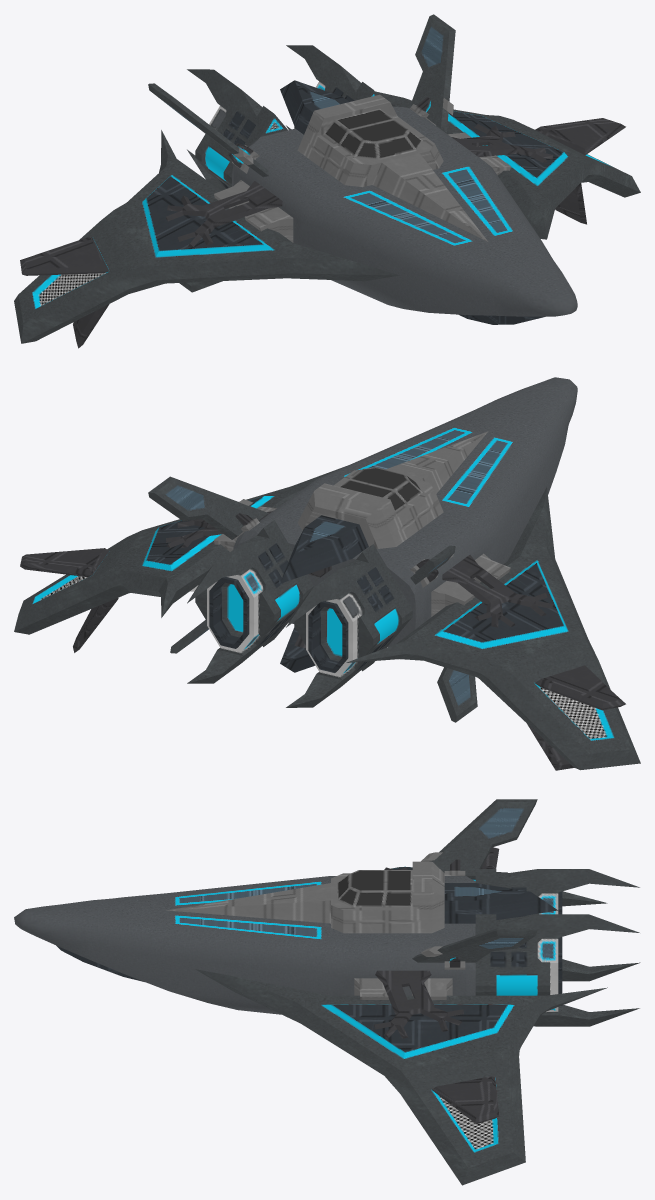
Rendered from virtuosity.gltf.
3 views of the same model, one above another, from view 1: azimuth 30°, elevation 25°; view 2: azimuth 150°, elevation 25°; view 3: azimuth 270°, elevation 25° (orthographic). The views are drawn at different scales.
Visible parts, largest first — view 1: base; view 2: base; view 3: base.
Part boxes in pixels (x1,y1,x2,y2): base: (14, 14, 640, 348); base: (14, 377, 640, 770); base: (14, 799, 640, 1185).
Size of the model in its own units: 8.14 by 2.6 by 7.59.
Materials: 1 (1 with a texture image).
